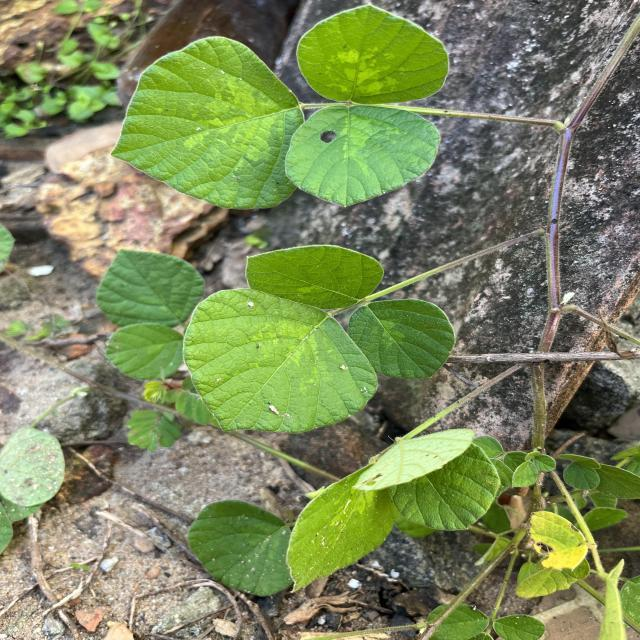Pseudarthria viscida: (109, 2, 451, 212), (180, 242, 457, 436)
